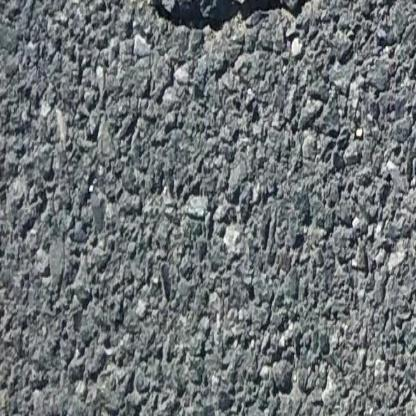Cracks: (113, 0, 333, 42)
